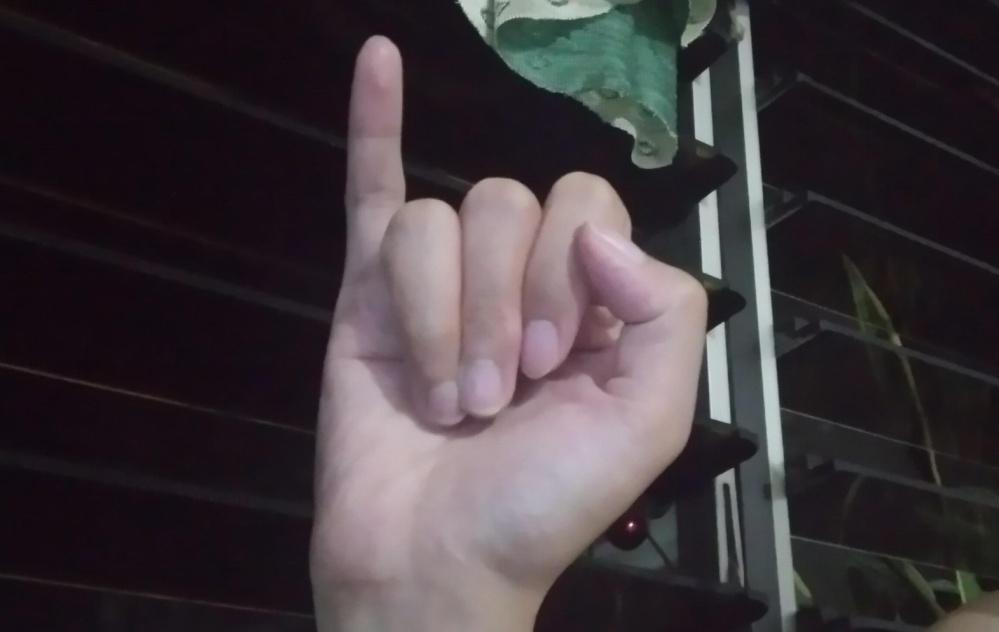i: (309, 32, 709, 615)
